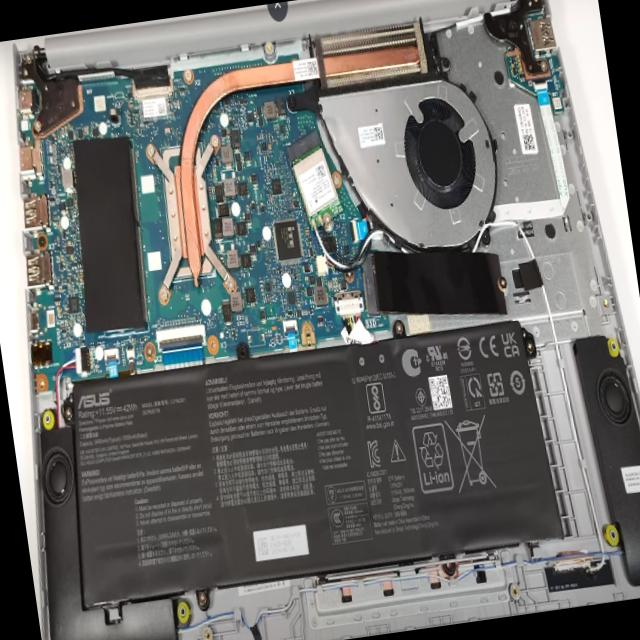battery: (55, 317, 567, 602)
ssd: (361, 232, 509, 334)
wifi: (284, 126, 344, 220)
